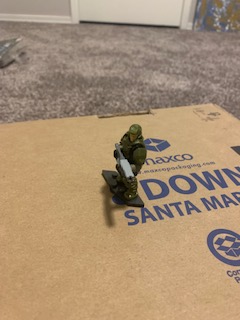soldier: (113, 122, 150, 204)
